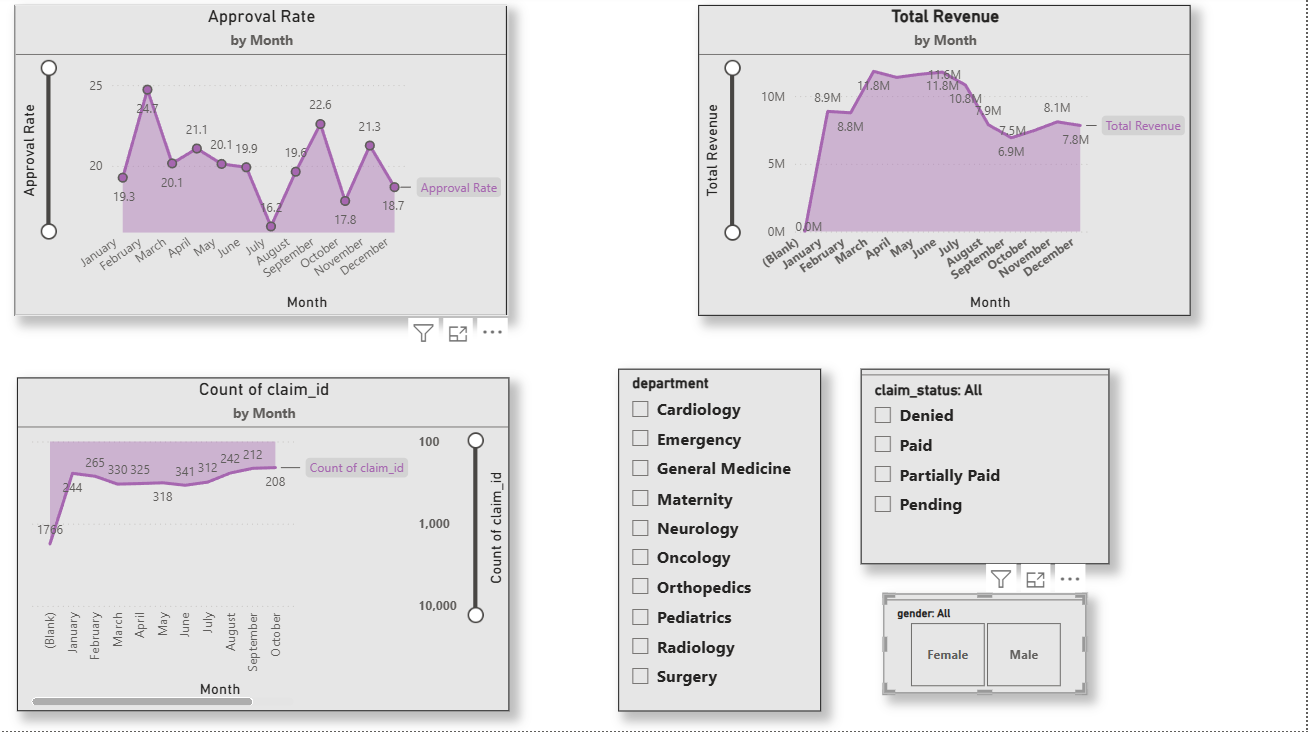

What the dashboard file says about the page in this screenshot:
{"tool":"powerbi","page":{"name":"Revenue & claim","canvas":[1280,720],"ordinal":2},"visuals":[{"type":"slicer","fields":{"Values":["hospital revenue.department"]},"box":[607.2,365.6,198.6,335.2],"z":1},{"type":"slicer","fields":{"Values":["hospital revenue.gender"]},"box":[866.6,585.7,198.6,97.4],"z":2},{"type":"slicer","fields":{"Values":["hospital revenue.claim_status"]},"box":[845.1,365.6,242.9,191],"z":3},{"type":"lineChart","fields":{"Category":["hospital revenue.admission_date.Variation.Date Hierarchy.Month"],"Y":["hospital revenue.Approval Rate"]},"box":[17.7,10.1,482,303.6],"z":4},{"type":"lineChart","fields":{"Y":["CountNonNull(hospital revenue.claim_id)"],"Category":["hospital revenue.payment_date.Variation.Date Hierarchy.Month"]},"box":[19,374.5,482,326.4],"z":5},{"type":"lineChart","fields":{"Category":["hospital revenue.payment_date.Variation.Date Hierarchy.Month"],"Y":["hospital revenue.Total Revenue"]},"box":[685.7,10.1,482,303.6],"z":6}]}

Visuals, with their boxes in screenshot pixels (x1, y1, x2, y2), scaled from the page's 1280x720 canvas onto the 1308x732 screenshot:
slicer - hospital revenue.department: crop(620, 372, 823, 712)
slicer - hospital revenue.gender: crop(886, 595, 1089, 694)
slicer - hospital revenue.claim_status: crop(864, 372, 1112, 566)
lineChart - hospital revenue.admission_date.Variation.Date Hierarchy.Month x hospital revenue.Approval Rate: crop(18, 10, 511, 319)
lineChart - CountNonNull(hospital revenue.claim_id) x hospital revenue.payment_date.Variation.Date Hierarchy.Month: crop(19, 381, 512, 713)
lineChart - hospital revenue.payment_date.Variation.Date Hierarchy.Month x hospital revenue.Total Revenue: crop(701, 10, 1193, 319)
